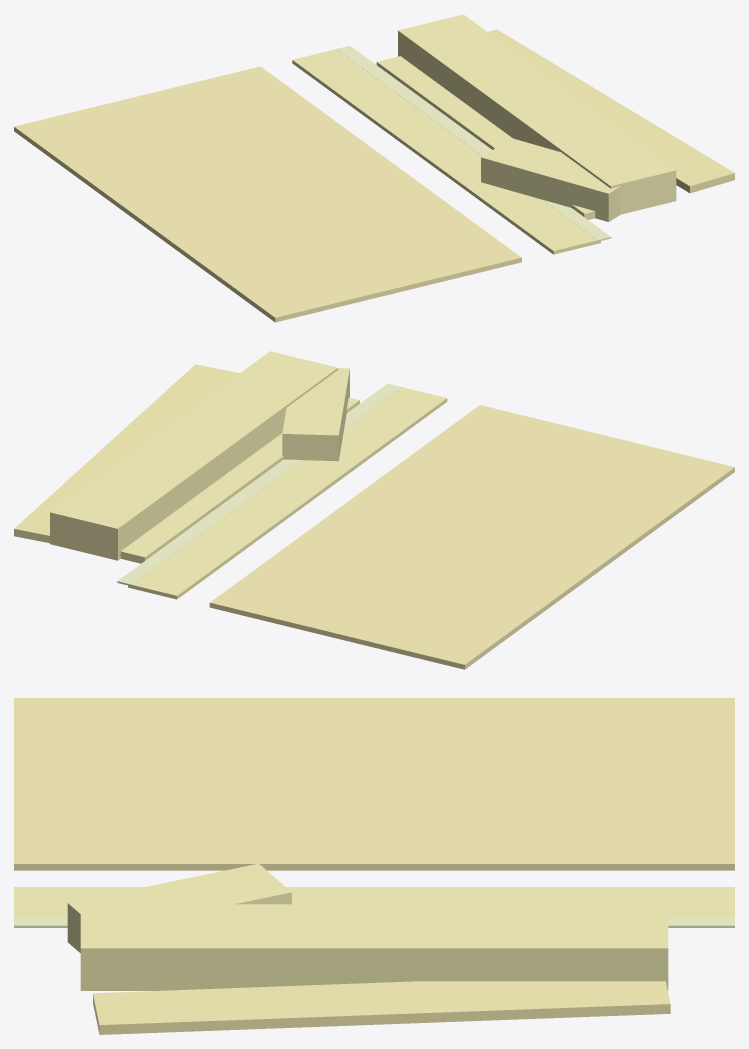
File: road_retaining_wall_cut_transition.glb
3 views of the same model, one above another, from view 1: azimuth 30°, elevation 25°; view 2: azimuth 150°, elevation 25°; view 3: azimuth 270°, elevation 25° (orthographic). The views are drawn at different scales.
Parts seen in each view (by area): view 1: travel_lane, retaining_wall, shoulder_strip, wall_return, cut_slope_fill, barrier_pad, drain_trench; view 2: travel_lane, retaining_wall, shoulder_strip, cut_slope_fill, wall_return, barrier_pad, drain_trench; view 3: travel_lane, retaining_wall, cut_slope_fill, shoulder_strip, wall_return, drain_trench.
Part boxes in pixels (left/top/right/bottom): travel_lane: left=14, top=66, right=521, bottom=322; retaining_wall: left=398, top=14, right=676, bottom=214; shoulder_strip: left=292, top=49, right=600, bottom=254; wall_return: left=481, top=138, right=620, bottom=221; cut_slope_fill: left=488, top=29, right=734, bottom=193; barrier_pad: left=376, top=56, right=595, bottom=219; drain_trench: left=337, top=45, right=611, bottom=240; travel_lane: left=209, top=405, right=734, bottom=669; retaining_wall: left=50, top=351, right=337, bottom=560; shoulder_strip: left=128, top=387, right=447, bottom=599; cut_slope_fill: left=14, top=364, right=239, bottom=543; wall_return: left=282, top=368, right=349, bottom=461; barrier_pad: left=120, top=397, right=359, bottom=563; drain_trench: left=117, top=383, right=400, bottom=585; travel_lane: left=14, top=698, right=734, bottom=870; retaining_wall: left=80, top=904, right=668, bottom=990; cut_slope_fill: left=93, top=981, right=670, bottom=1034; shoulder_strip: left=14, top=887, right=734, bottom=916; wall_return: left=67, top=863, right=291, bottom=952; drain_trench: left=14, top=916, right=734, bottom=927.
Size of the model in its own units: 4.34 by 0.26 by 4.
